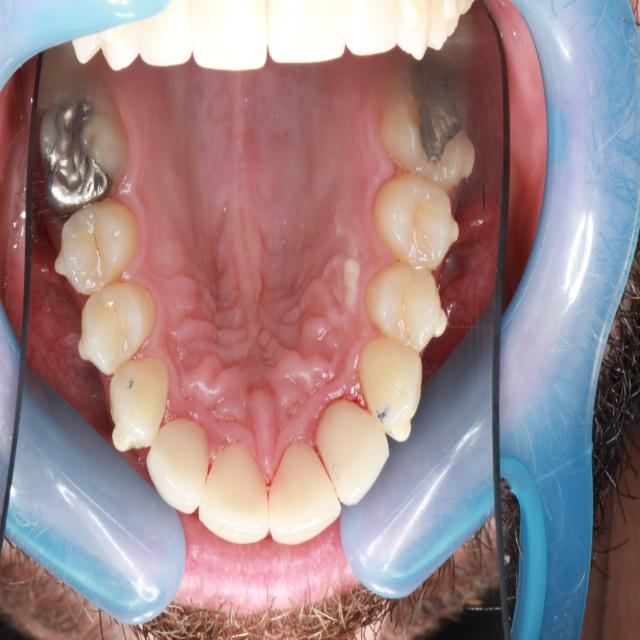tooth: (374, 56, 481, 193), (36, 87, 134, 217), (365, 156, 462, 277), (46, 186, 145, 298), (311, 377, 395, 507), (265, 426, 341, 558), (364, 244, 449, 360), (192, 431, 272, 553), (351, 326, 424, 454), (74, 274, 159, 380), (101, 349, 172, 459), (142, 411, 212, 519)
